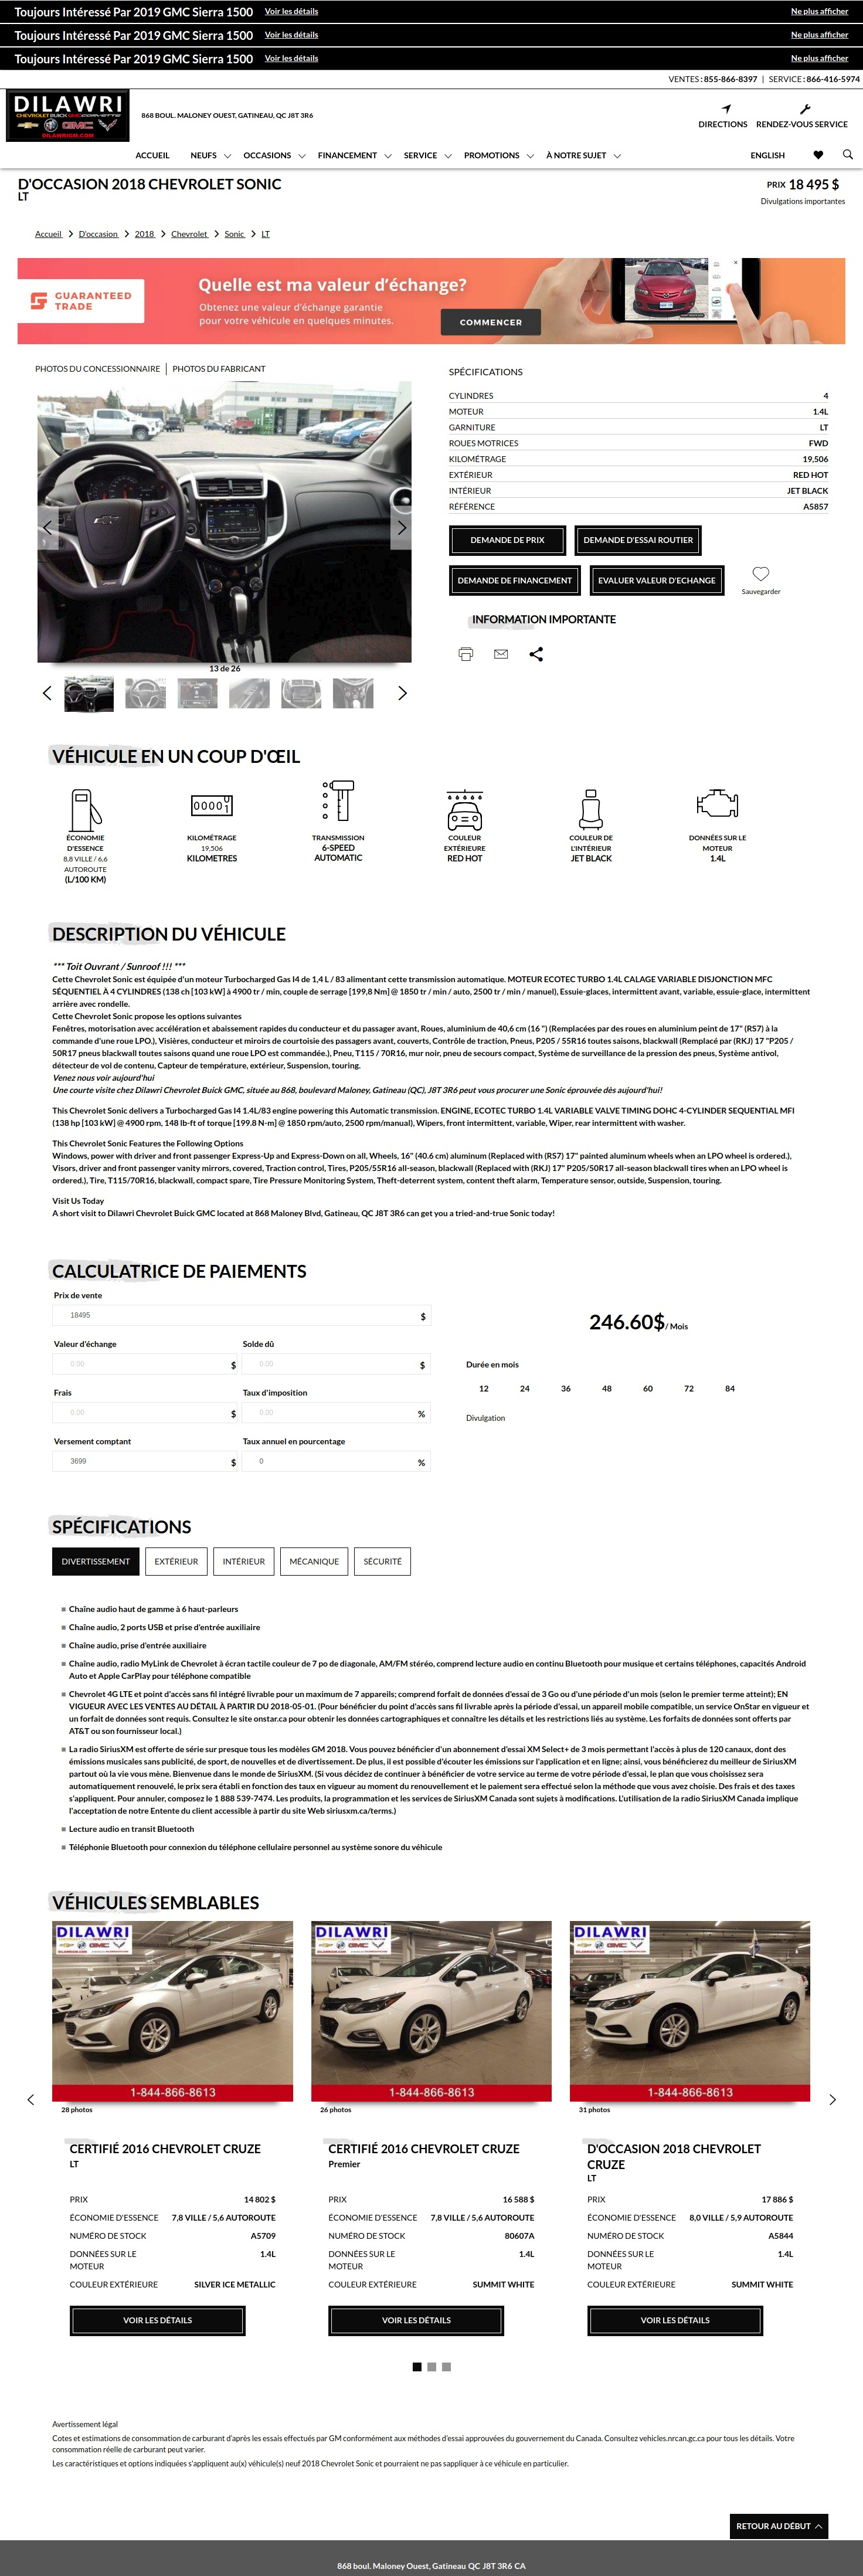car: (399, 687, 408, 701)
